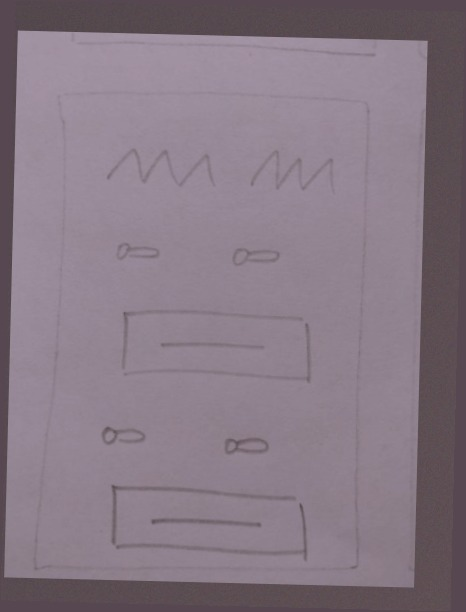button: (104, 299, 325, 396), (95, 478, 319, 567)
switch: (219, 233, 285, 278), (214, 427, 277, 467), (91, 415, 152, 451), (109, 235, 171, 266)
text: (101, 135, 218, 200), (243, 142, 341, 203)
